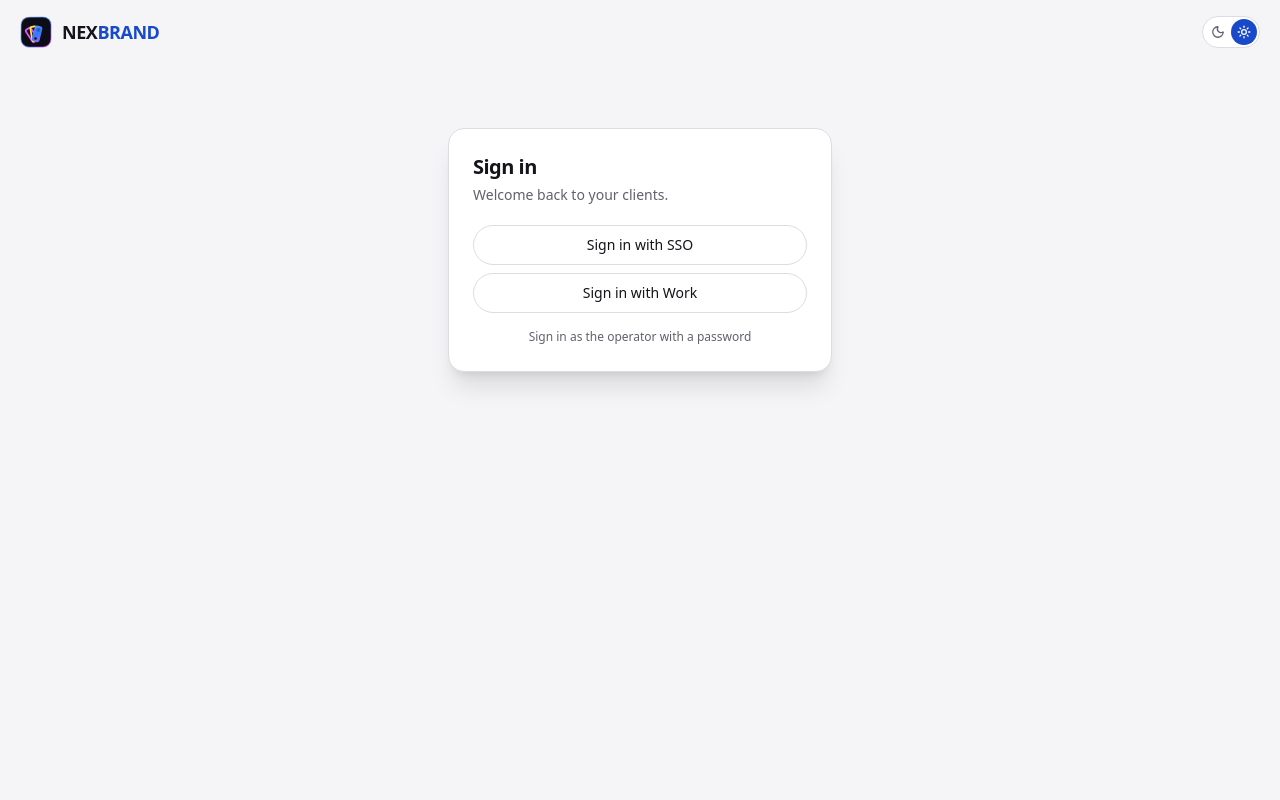
the sign-in page › with the password sign-in off shows only the buttons and the operator's way in
Click the button "Sign in as the operator with a password" at (640, 337), box [473,329,807,345]
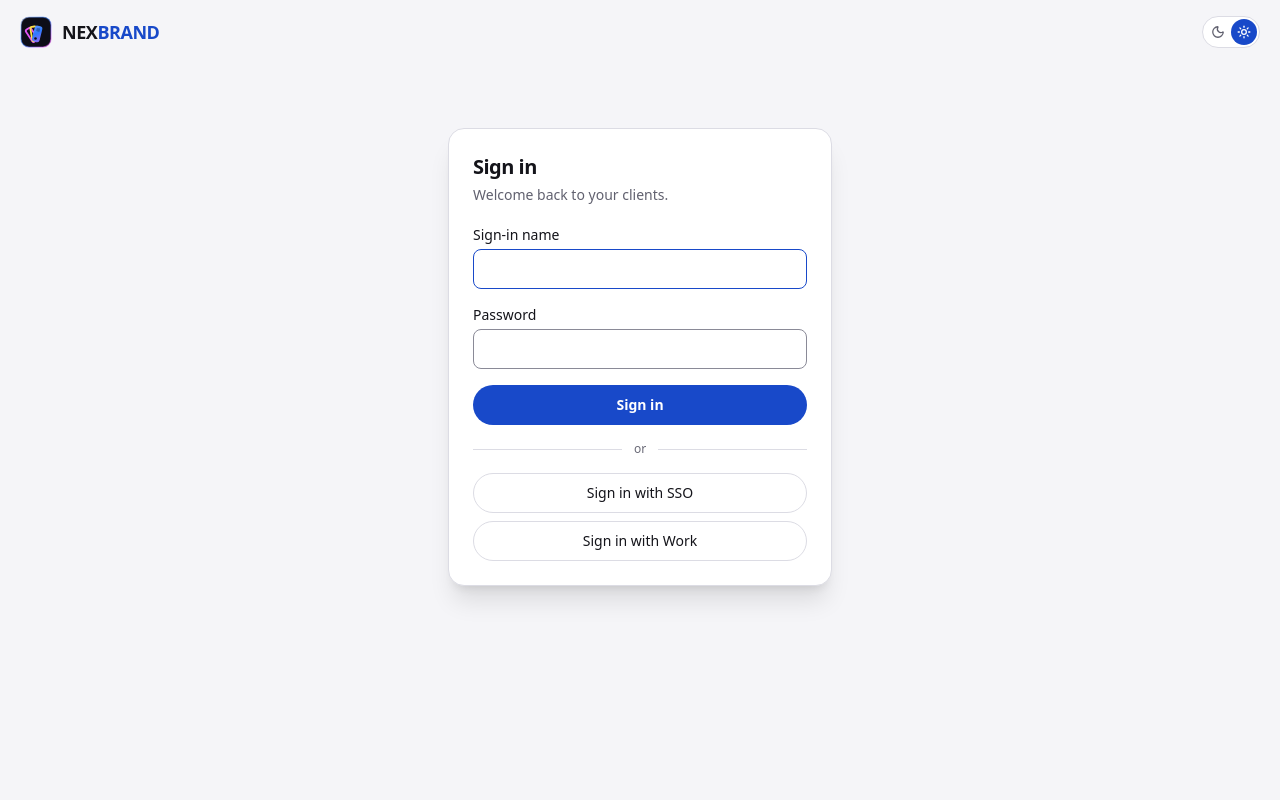
Result: the password field labelled "Password" is shown at [473,329,807,369]
